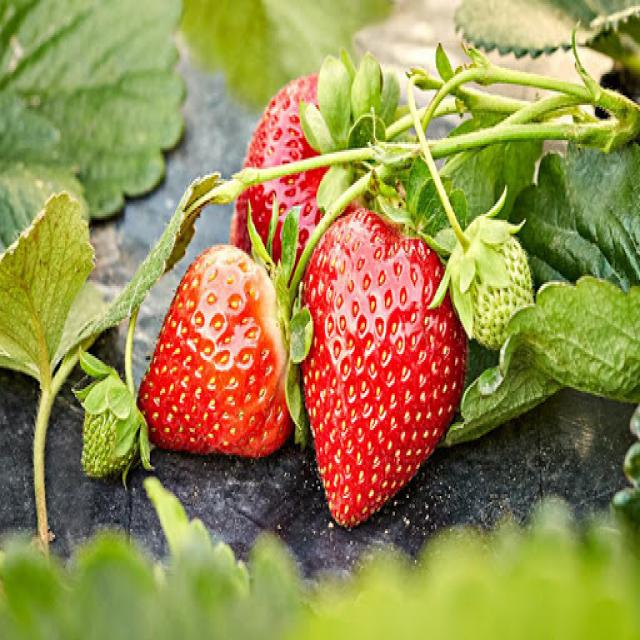strawberry: (302, 202, 470, 529), (141, 237, 309, 469), (238, 64, 376, 263)
